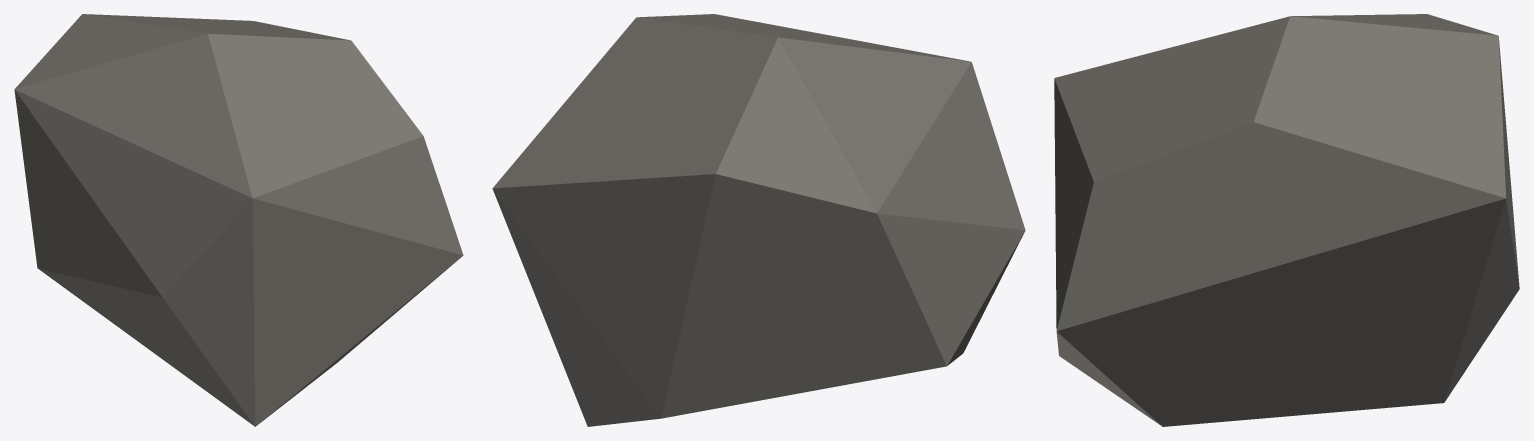
Rendered from rock_small.glb.
3 renders of one model, left to right at view 1: azimuth 30°, elevation 25°; view 2: azimuth 150°, elevation 25°; view 3: azimuth 270°, elevation 25°, orthographic. The views are drawn at different scales.
Visible parts, largest first — view 1: SM_Env_Rock_Small_01; view 2: SM_Env_Rock_Small_01; view 3: SM_Env_Rock_Small_01.
Boxes of the visible parts, x1,y1,x2,y2 form: SM_Env_Rock_Small_01: [14, 14, 463, 426]; SM_Env_Rock_Small_01: [492, 14, 1025, 426]; SM_Env_Rock_Small_01: [1054, 14, 1519, 426].
Size of the model in its own units: 0.2695 by 0.2577 by 0.2949.
Materials: 1 (1 with a texture image).
